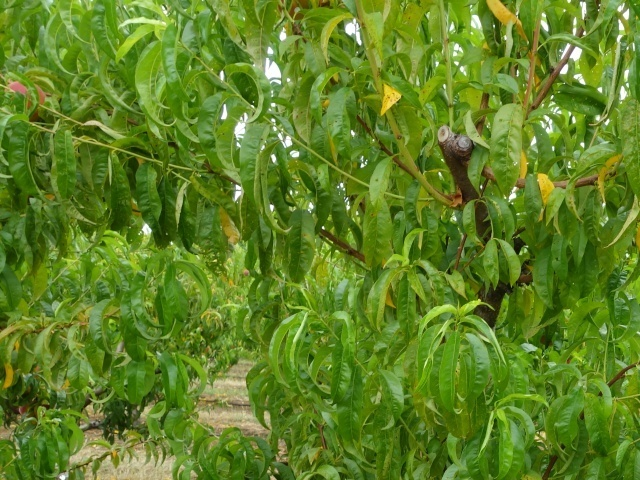peach: (3, 77, 52, 121)
